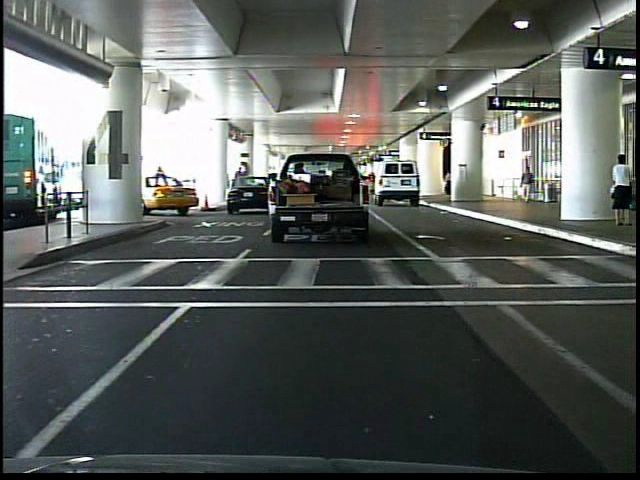person: (604, 149, 635, 230), (519, 159, 538, 207)
